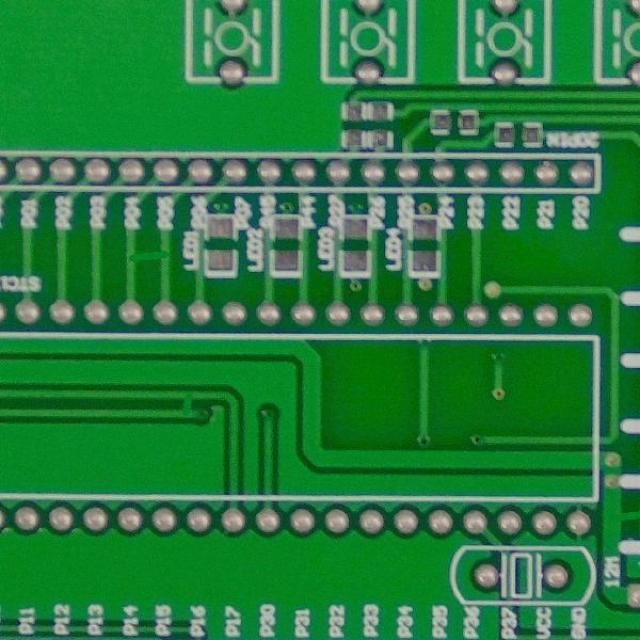short: (120, 242, 175, 273), (606, 502, 639, 534), (172, 390, 205, 420)
